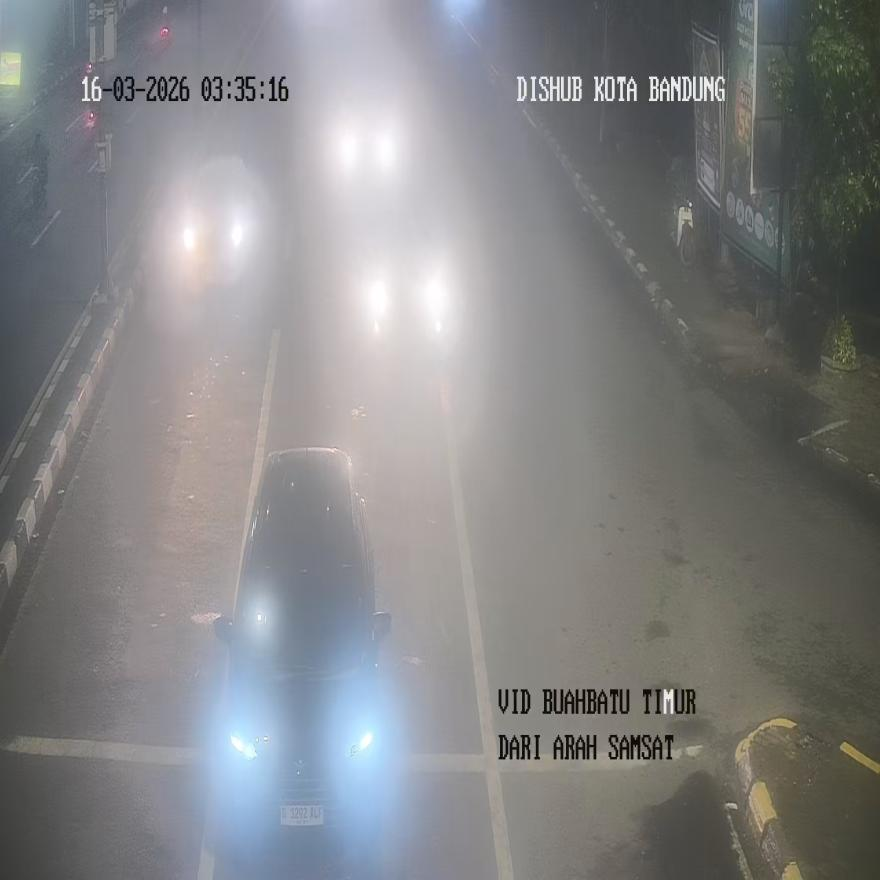Motor: (211, 448, 393, 849), (186, 115, 280, 275), (365, 210, 447, 346), (331, 78, 394, 178)
